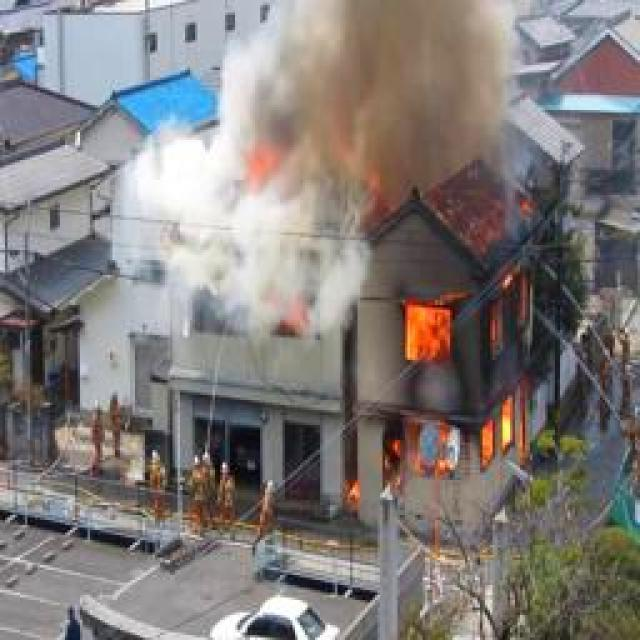Fire: (338, 247, 552, 533)
